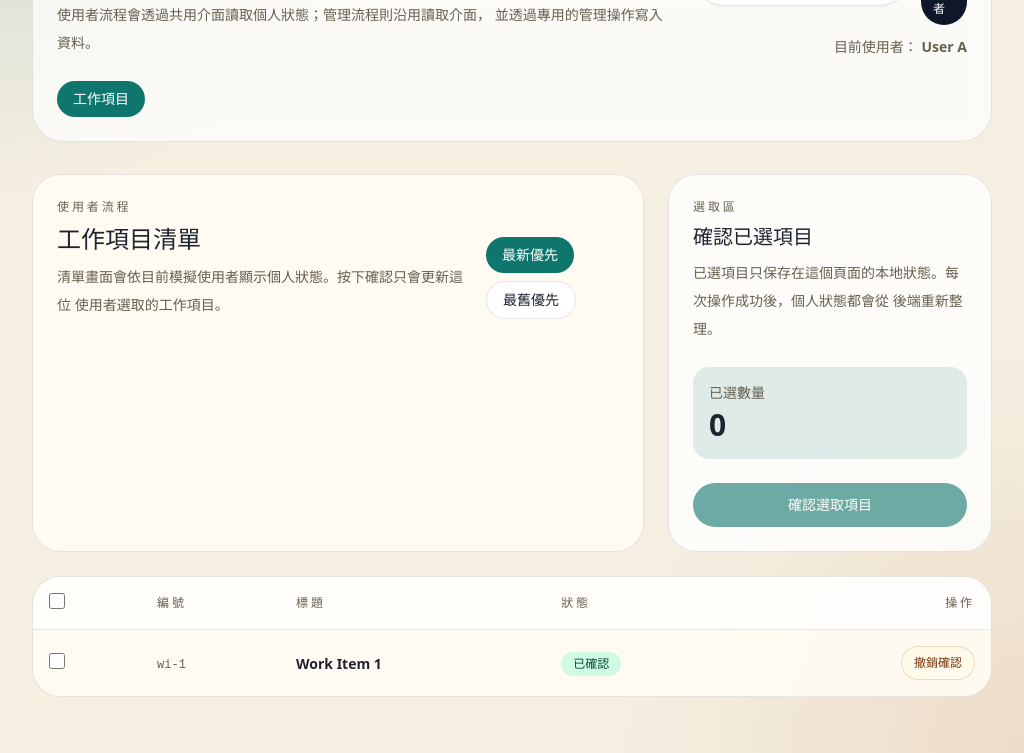
Test: WorkItemsPage › WorkItemsPage_WhenRevertSucceeds_UpdatesTheRowAndShowsSuccessMessage
The image size is (1024, 753).
(page scrolled)
Expected: the text "Work Item 1" is shown, [296,654,382,674]
Click the button "撤銷確認".
click(938, 663)  # box [901,646,975,680]
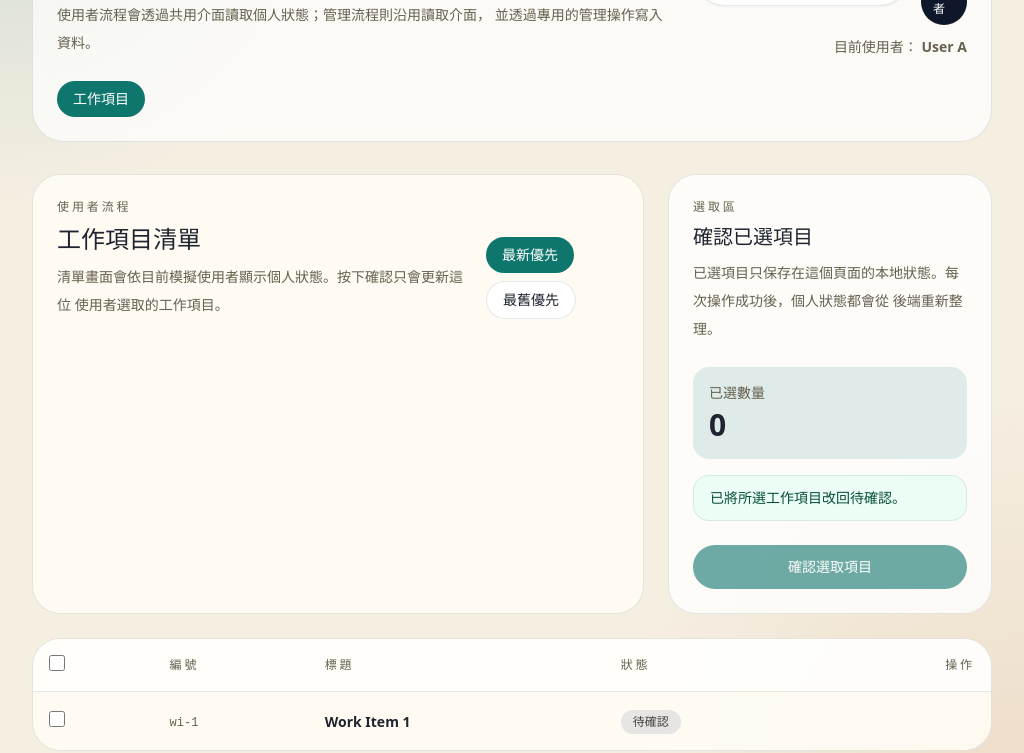
Result: the text "已將所選工作項目改回待確認。" is shown at [693,475,967,521]
Result: the button "撤銷確認" is gone
